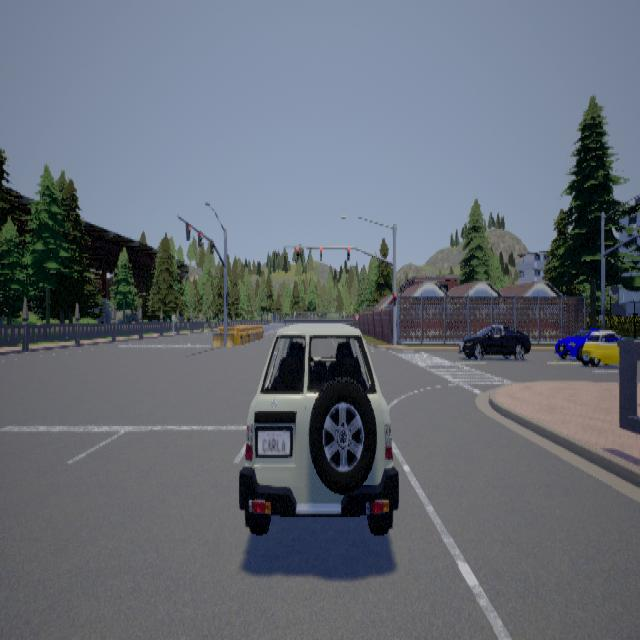red_light: (197, 228, 202, 246), (185, 221, 190, 239), (209, 238, 213, 252), (392, 292, 396, 305), (347, 247, 350, 260), (320, 246, 322, 260), (297, 246, 299, 259)
traffic_light: (225, 291, 228, 305)
vehicle: (238, 310, 398, 534), (457, 325, 530, 359), (582, 325, 626, 369), (553, 327, 598, 364)
